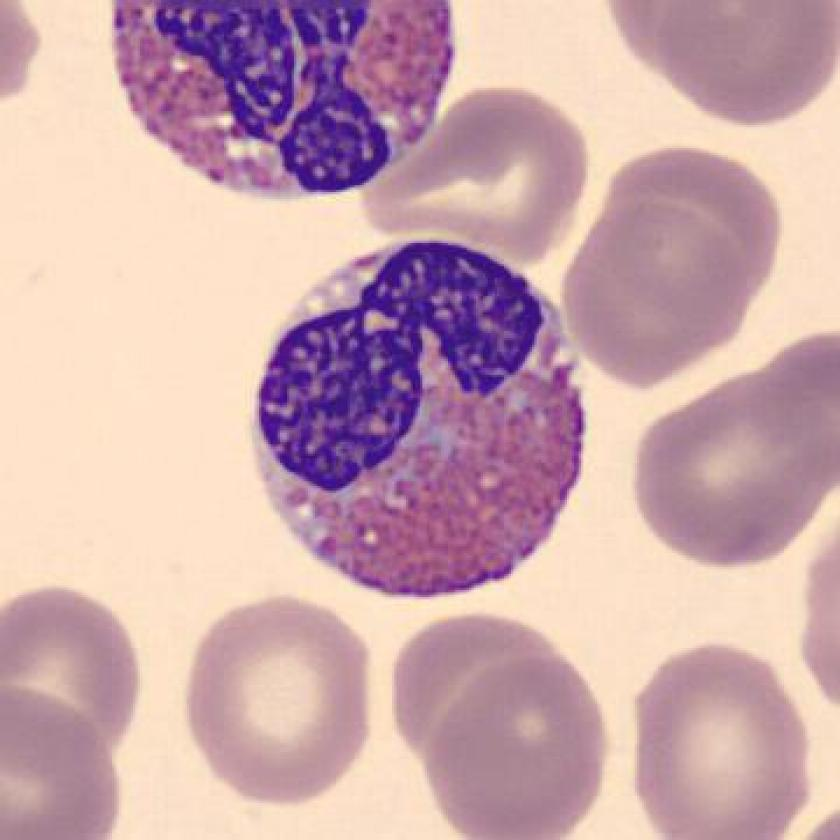eosinophil: (237, 228, 598, 612)
